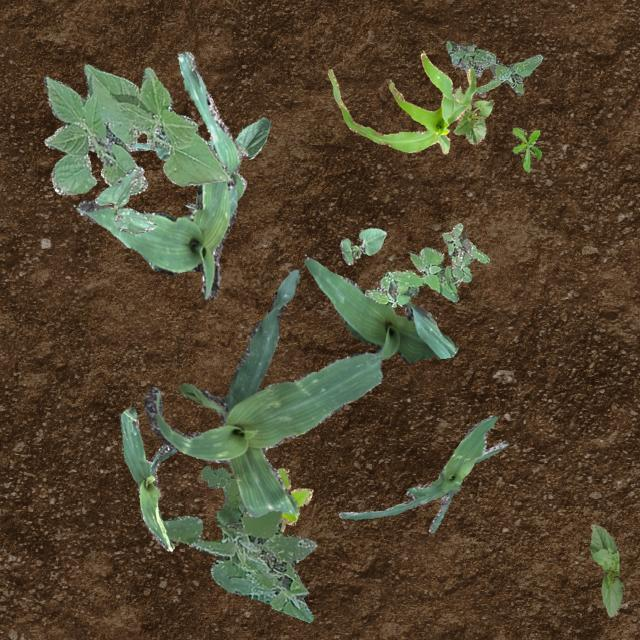crop: (143, 268, 383, 516), (75, 50, 238, 298), (42, 64, 230, 194), (338, 414, 508, 532), (304, 256, 458, 362), (326, 51, 474, 152), (124, 142, 246, 212), (120, 406, 176, 550), (94, 165, 156, 232), (588, 522, 622, 616), (452, 84, 492, 144), (232, 116, 270, 164), (340, 226, 386, 264)
weed: (162, 508, 316, 622), (364, 222, 488, 306), (446, 40, 542, 94), (200, 464, 243, 520), (276, 468, 310, 530), (510, 126, 540, 170)
